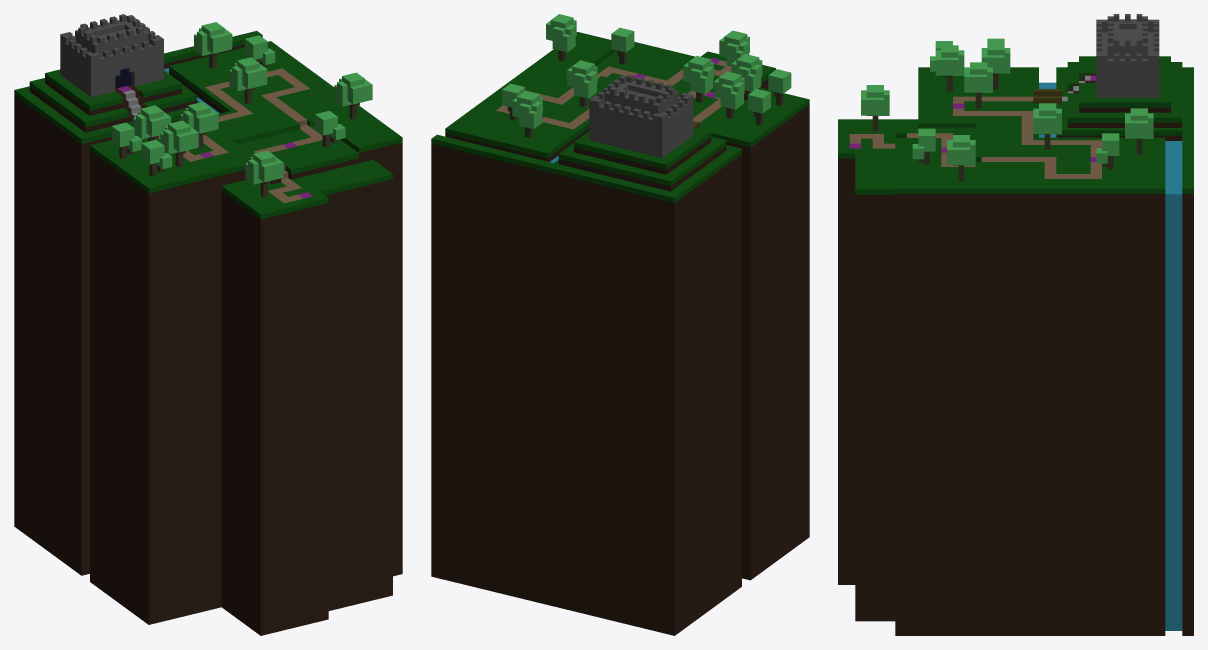
File: Grass-World-Menu.fbx
The picture shows the model from 3 angles, left to right: view 1: azimuth 30°, elevation 25°; view 2: azimuth 150°, elevation 25°; view 3: azimuth 270°, elevation 25°; orthographic projection. The views are drawn at different scales.
Visible parts, largest first — view 1: world; view 2: world; view 3: world.
Part boxes in pixels (<box>): world: <box>14,14,402,635</box>; world: <box>431,14,809,635</box>; world: <box>838,14,1193,635</box>.
Size of the model in its own units: 5 by 10 by 6.2.
1 material, 1 textured.
